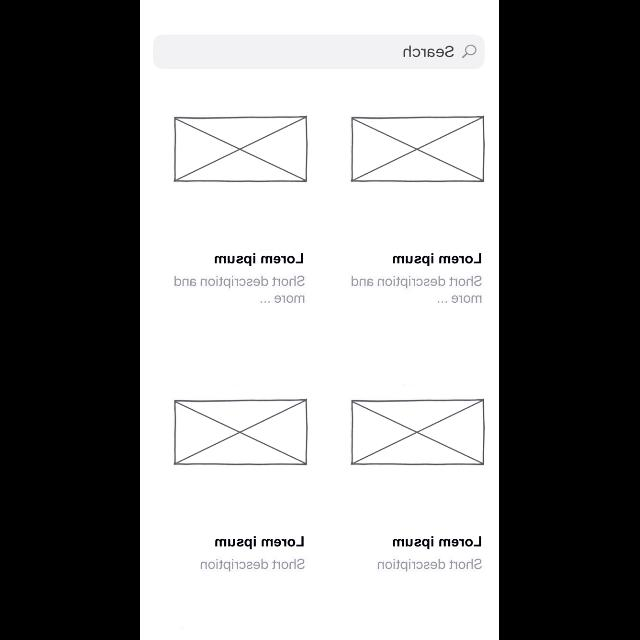icon: (462, 45, 478, 59)
image: (350, 398, 486, 466), (350, 115, 486, 183), (174, 398, 308, 466), (174, 116, 308, 182)
input: (153, 34, 485, 70)
text: (352, 276, 482, 304), (175, 276, 305, 304), (200, 558, 306, 572), (378, 558, 482, 572), (392, 253, 482, 267), (214, 253, 304, 267), (215, 536, 305, 550), (392, 536, 482, 550), (404, 46, 454, 58)
